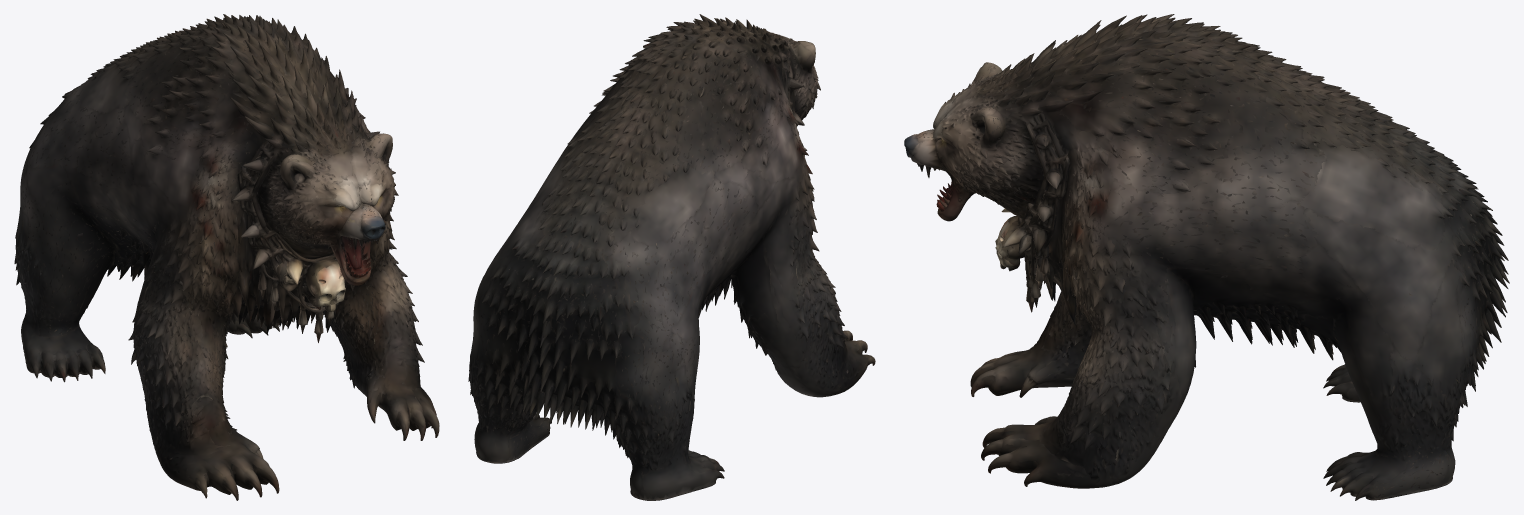
Rendered from brown_bear.glb.
3 renders of one model, left to right at view 1: azimuth 30°, elevation 25°; view 2: azimuth 150°, elevation 25°; view 3: azimuth 270°, elevation 25°, orthographic. The views are drawn at different scales.
Visible parts, largest first — view 1: material; view 2: material; view 3: material.
Part boxes in pixels (<box>): material: <box>14,14,439,500</box>; material: <box>468,14,875,500</box>; material: <box>904,14,1509,500</box>.
Bounding box in the file's own units: 0.5506 × 0.7865 × 1.03.
Materials: 1 (1 with a texture image).
